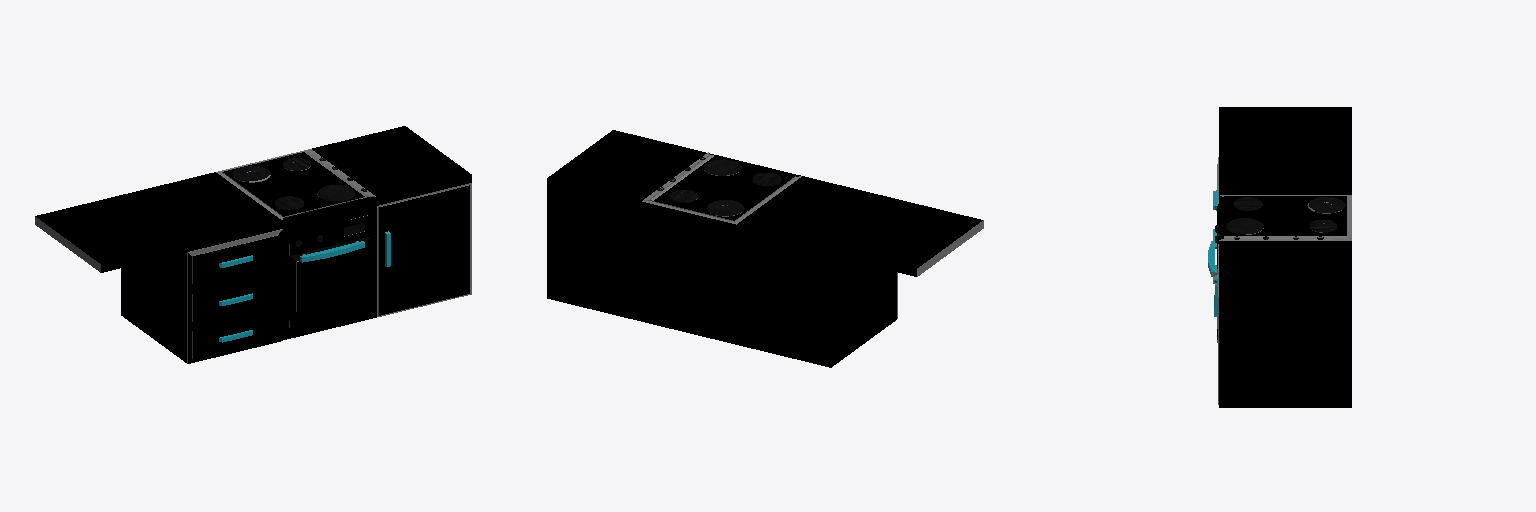
3 renders of one model, left to right at view 1: azimuth 30°, elevation 25°; view 2: azimuth 150°, elevation 25°; view 3: azimuth 270°, elevation 25°, orthographic.
Visible parts, largest first — view 1: fkc:Box001; view 2: fkc:Box001; view 3: fkc:Box001.
Part boxes in pixels (x1,y1,x2,y2): fkc:Box001: (35, 126, 471, 363); fkc:Box001: (547, 130, 983, 367); fkc:Box001: (1208, 107, 1351, 407).
Size of the model in its own units: 11.47 by 3.64 by 3.86.
Materials: 6 (2 with a texture image).